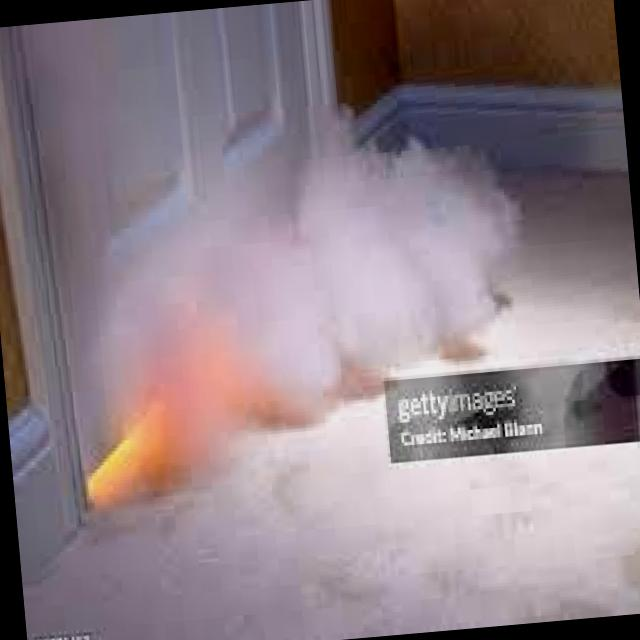fire: (64, 394, 236, 524)
smoke: (105, 105, 532, 390)
